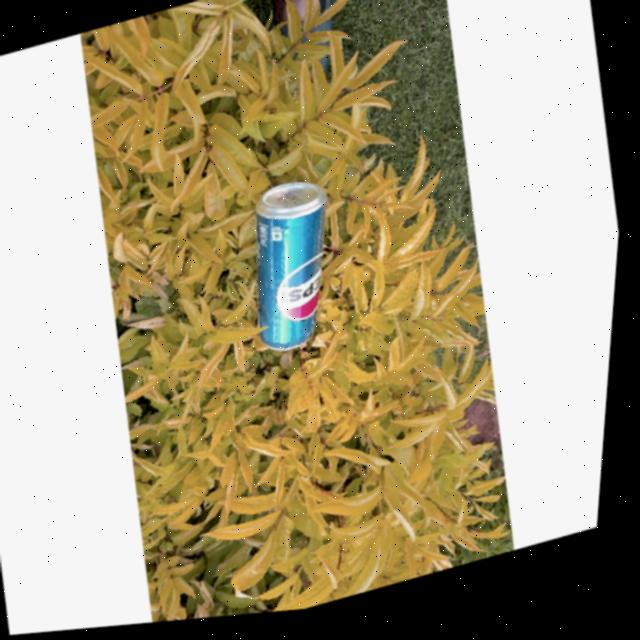Pepsi: (240, 182, 349, 357)
